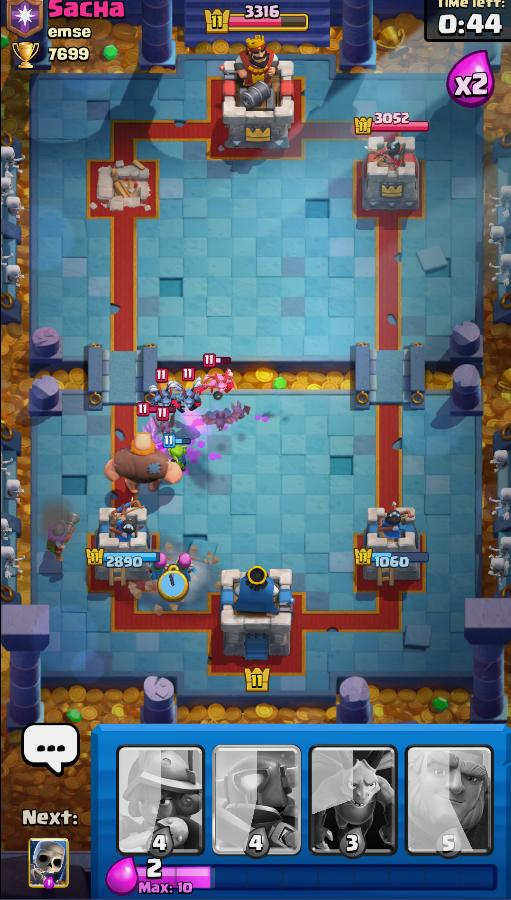archere: (175, 547, 198, 584), (148, 548, 169, 582)
bat: (202, 410, 239, 428), (222, 401, 257, 420), (154, 417, 177, 435)
gargouille: (167, 380, 204, 410), (148, 384, 182, 408), (203, 370, 235, 395)
geant: (102, 433, 182, 492)
gobelin: (168, 446, 190, 474)
mousquetaire: (44, 509, 81, 564)
